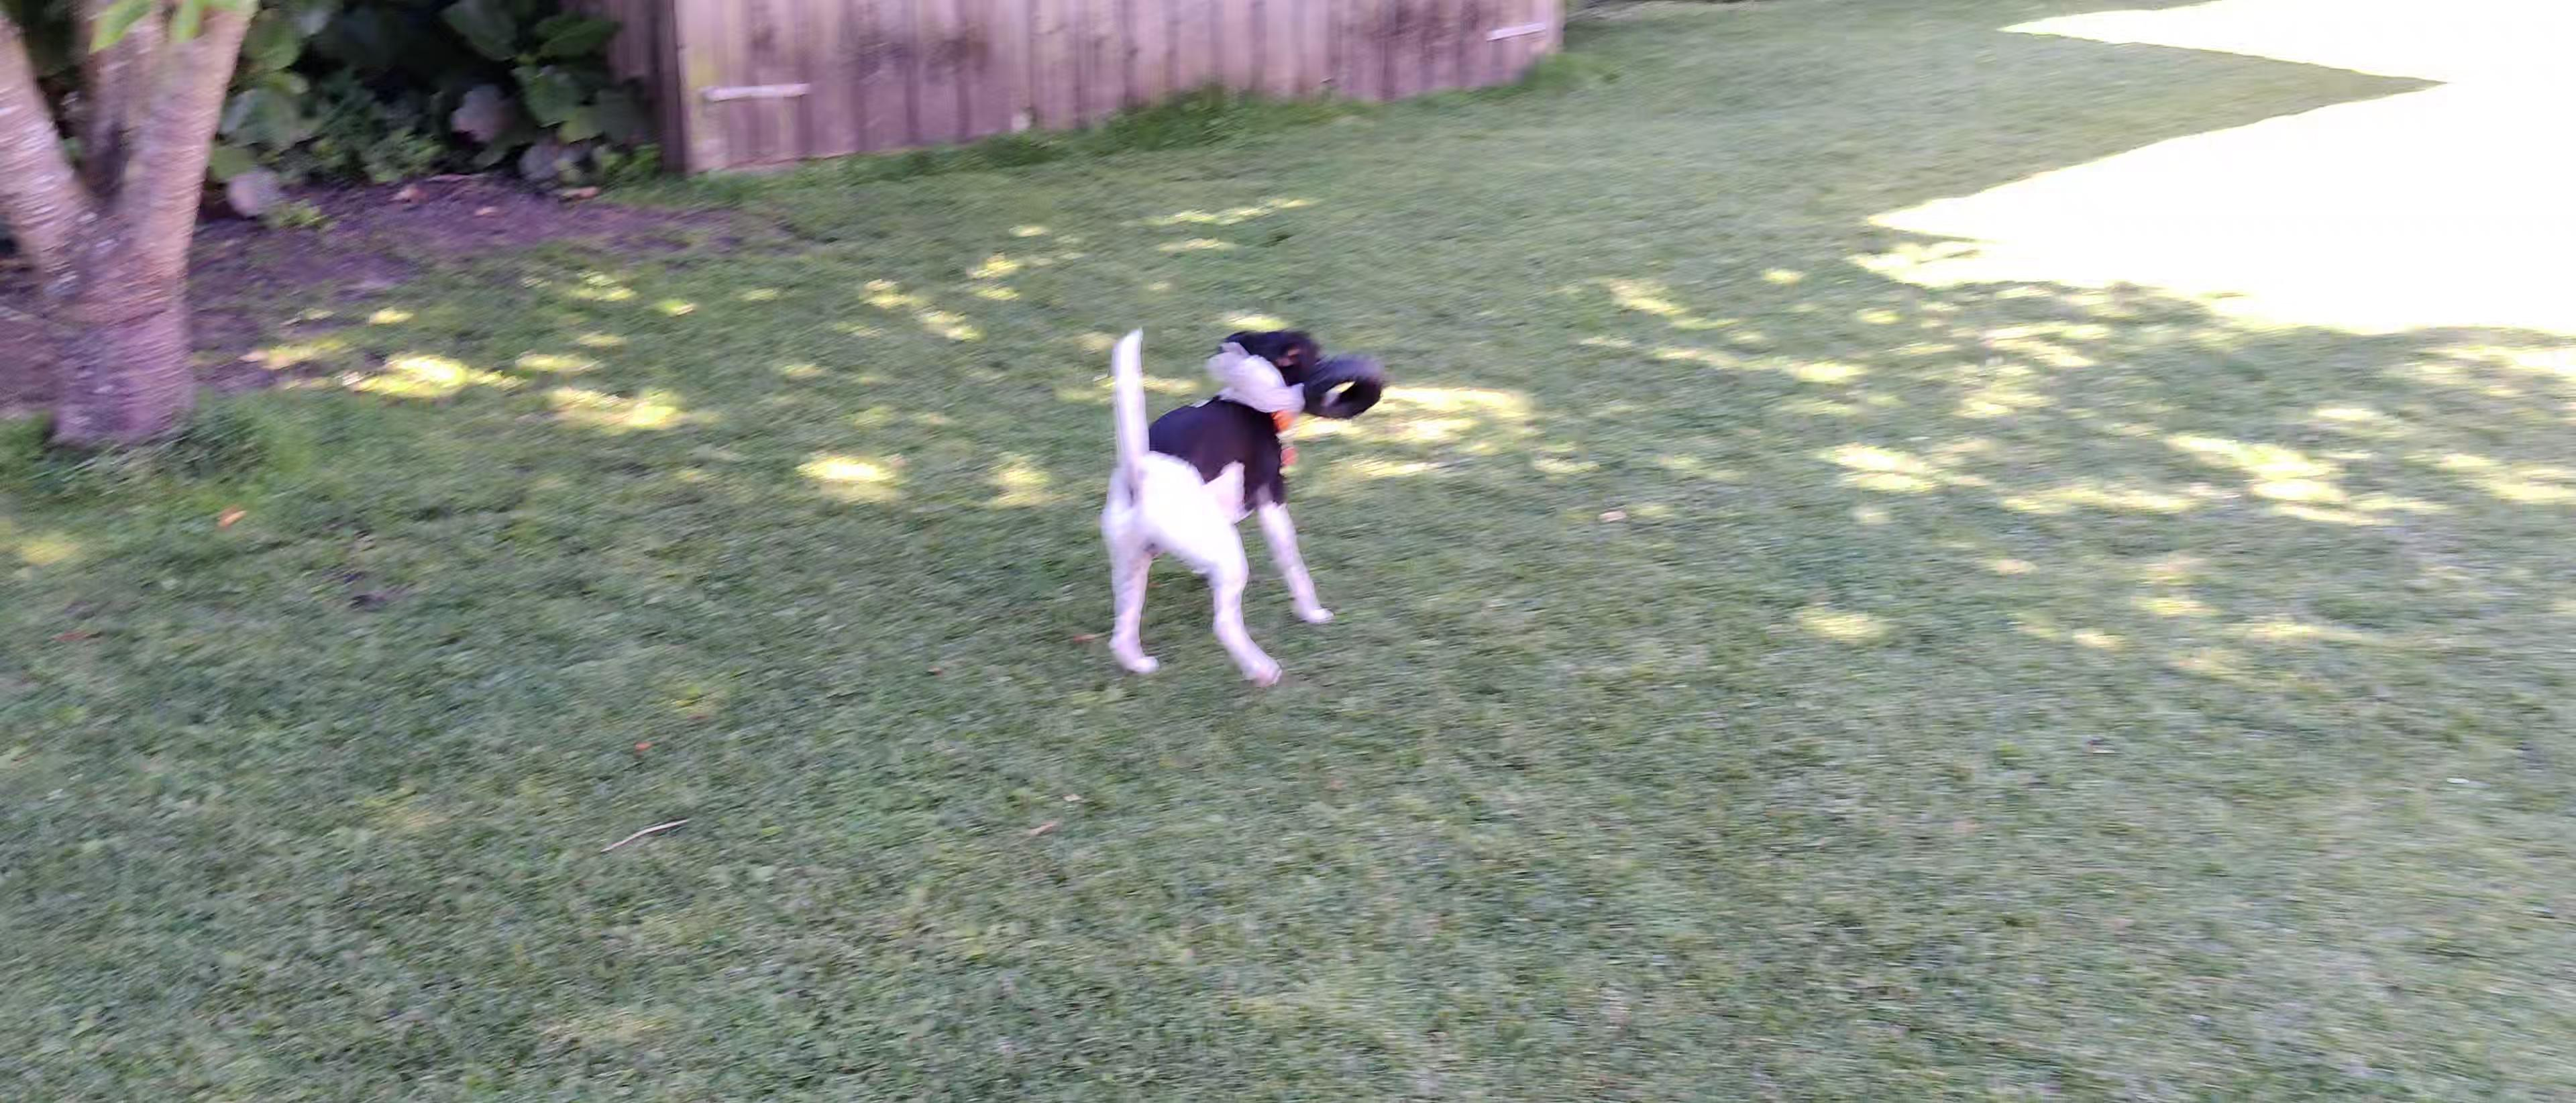Dog: (1094, 322, 1334, 702)
